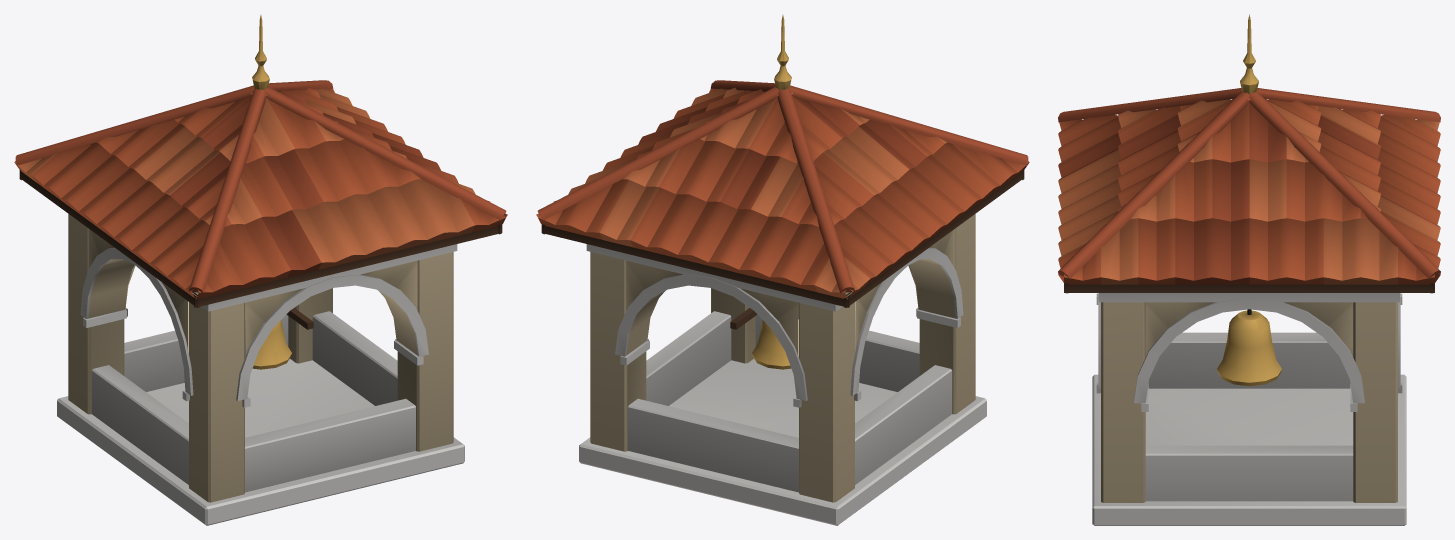
File: kit_tower.glb
The picture shows the model from 3 angles, left to right: view 1: azimuth 30°, elevation 25°; view 2: azimuth 150°, elevation 25°; view 3: azimuth 270°, elevation 25°; orthographic projection. The views are drawn at different scales.
Visible parts, largest first — view 1: tower_belfry_4m; view 2: tower_belfry_4m; view 3: tower_belfry_4m.
Part boxes in pixels (x1,y1,x2,y2): tower_belfry_4m: (14,15,507,525); tower_belfry_4m: (536,15,1029,525); tower_belfry_4m: (1058,14,1440,525).
Size of the model in its own units: 5.16 by 6.64 by 5.16.
